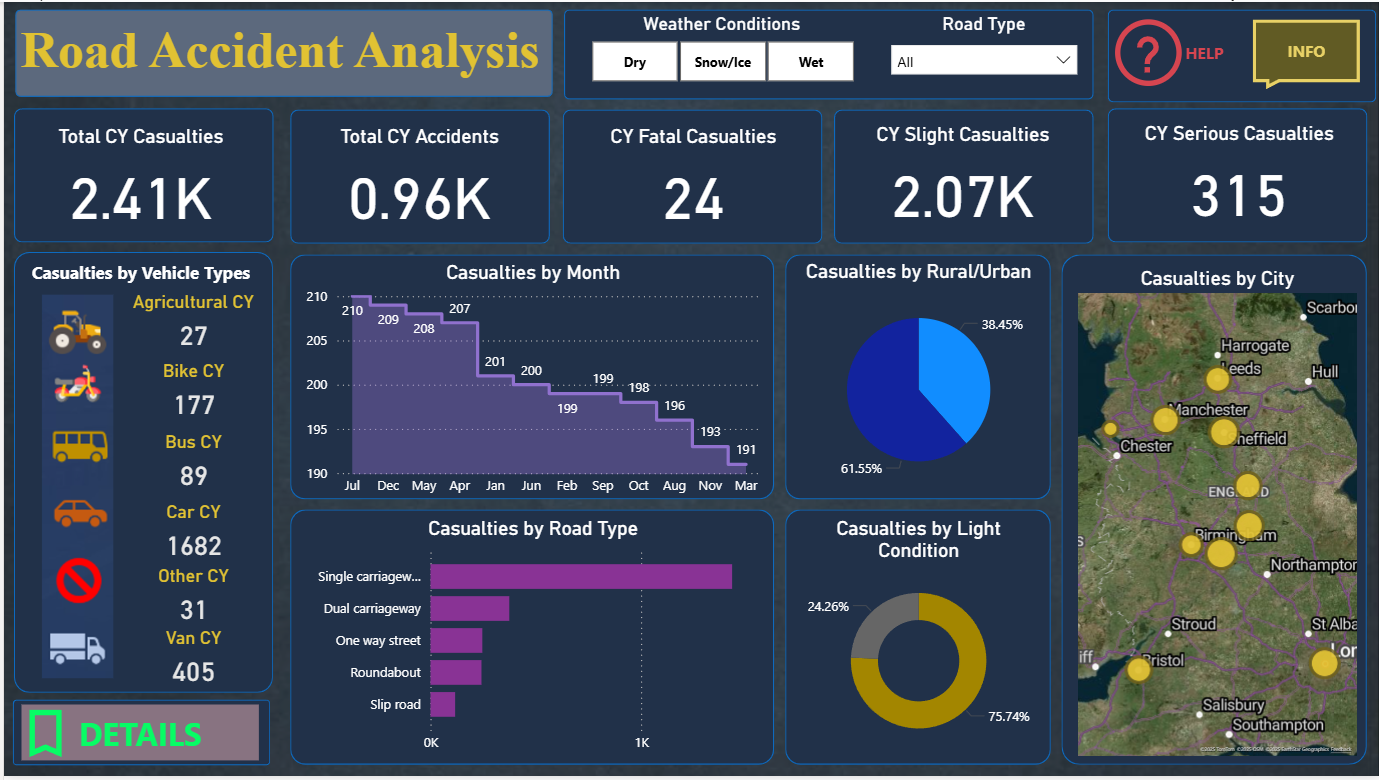

This screenshot's page, from the dashboard's own definition file:
{"tool":"powerbi","page":{"name":"Dashboard","canvas":[1280,720],"ordinal":0},"visuals":[{"type":"shape","box":[10,7.1,500,81.2],"z":0},{"type":"shape","box":[9.6,99.2,241.5,124.9],"z":1000},{"type":"shape","box":[266.2,100.5,241.5,124.9],"z":2000},{"type":"shape","box":[520.1,100.5,241.5,124.9],"z":3000},{"type":"shape","box":[772.6,100.5,241.5,124.9],"z":4000},{"type":"shape","box":[1026.4,99.2,241.5,124.9],"z":5000},{"type":"shape","box":[9,233,240.9,410],"z":6000},{"type":"shape","box":[266.2,234.6,450.1,227.8],"z":7000},{"type":"shape","box":[266.2,472,450.1,237.4],"z":8000},{"type":"shape","box":[727.3,234.6,247,227.8],"z":9000},{"type":"shape","box":[727.3,472,247,237.4],"z":10000},{"type":"shape","box":[983.9,234.6,284,474.8],"z":11000},{"type":"card","title":"Total CY Casualties","fields":{"Values":["Table.Total CY Casualities"]},"box":[41.2,113.9,174.3,98.8],"z":12000},{"type":"card","title":"CY Fatal Casualties","fields":{"Values":["Table.Fatal casuality"]},"box":[554.4,113.9,174.3,98.8],"z":13000},{"type":"card","title":"CY Slight Casualties","fields":{"Values":["Table.Slight casuality"]},"box":[804.1,112.5,175.6,98.8],"z":14000},{"type":"card","title":"CY Serious Casualties","fields":{"Values":["Table.Serious casuality"]},"box":[1056.6,111.1,185.2,98.8],"z":15000},{"type":"card","title":"Total CY Accidents","fields":{"Values":["Table.Total CY Accidents"]},"box":[300.5,113.9,174.3,98.8],"z":16000},{"type":"card","title":"Agricultural CY","fields":{"Values":["Table.Agricultural CY"]},"box":[115.3,269,122.1,59],"z":17000},{"type":"textbox","box":[17.1,234.8,220.9,39.9],"z":18000},{"type":"card","title":"Bike CY","fields":{"Values":["Table.Bike CY"]},"box":[115.5,333.1,122.6,58.4],"z":19000},{"type":"card","title":"Bus CY","fields":{"Values":["Table.Bus CY"]},"box":[115.5,398.7,122.6,58.4],"z":20000},{"type":"card","title":"Car CY","fields":{"Values":["Table.Car CY"]},"box":[115.5,464.3,122.6,58.4],"z":21000},{"type":"card","title":"Other CY","fields":{"Values":["Table.Other CY"]},"box":[115.5,522.7,122.6,58.4],"z":22000},{"type":"shape","box":[8.6,648.6,239.5,61.3],"z":23000},{"type":"textbox","box":[11,13,499,68.4],"z":24000},{"type":"shape","box":[521.4,6.9,492.6,83.7],"z":25000},{"type":"shape","box":[1026.4,6.9,249.7,86.4],"z":26000},{"type":"lineChart","title":"Casualties by Month","fields":{"Category":["Accident_data.Month"],"Y":["Sum(Accident_data.Casualties Count)"]},"box":[276.5,240.9,431.9,222.4],"z":27000},{"type":"barChart","title":"Casualties by Road Type","fields":{"Y":["Sum(Accident_data.Casualties Count)"],"Category":["Accident_data.Road Type"]},"box":[276.5,478.9,431.9,222.4],"z":28000},{"type":"pieChart","title":"Casualties by Rural/Urban","fields":{"Y":["Sum(Accident_data.Casualties Count)"],"Series":["Accident_data.Area"]},"box":[734.1,239.5,235.2,218.1],"z":29000},{"type":"donutChart","title":"Casualties by Light Condition","fields":{"Y":["Sum(Accident_data.Casualties Count)"],"Category":["Accident_data.Light Condition"]},"box":[734.1,478.9,235.2,222.4],"z":30000},{"type":"azureMap","title":"Casualties by City","fields":{"Category":["Accident_data.City"],"Size":["Sum(Accident_data.Casualties Count)"]},"box":[994.9,246.6,268,454.7],"z":31000},{"type":"card","title":"Van CY","fields":{"Values":["Table.Van CY"]},"box":[115.5,581.1,122.6,58.4],"z":32000},{"type":"slicer","title":"Road Type","fields":{"Values":["Accident_data.Road Type"]},"box":[815,11,193,64.5],"z":33000},{"type":"slicer","title":"Weather Conditions","fields":{"Values":["Accident_data.Weather Condition"]},"box":[521.4,11,293.7,70],"z":34000},{"type":"actionButton","box":[16.3,653.5,220.9,52.3],"z":35000},{"type":"actionButton","box":[1026.6,9.6,111.7,75.6],"z":36000},{"type":"actionButton","box":[1161.1,16.8,99.7,64.8],"z":37000},{"type":"image","box":[10.8,267.8,116.5,366.2],"z":38000}]}

Visuals, with their boxes in screenshot pixels (x1, y1, x2, y2), scaled from the page's 1280x720 canvas onto the 1379x780 screenshot:
shape: l=11, t=8, r=549, b=96
shape: l=10, t=107, r=271, b=243
shape: l=287, t=109, r=547, b=244
shape: l=560, t=109, r=821, b=244
shape: l=832, t=109, r=1093, b=244
shape: l=1106, t=107, r=1366, b=243
shape: l=10, t=252, r=269, b=697
shape: l=287, t=254, r=772, b=501
shape: l=287, t=511, r=772, b=769
shape: l=784, t=254, r=1050, b=501
shape: l=784, t=511, r=1050, b=769
shape: l=1060, t=254, r=1366, b=769
"Total CY Casualties" card: l=44, t=123, r=232, b=230
"CY Fatal Casualties" card: l=597, t=123, r=785, b=230
"CY Slight Casualties" card: l=866, t=122, r=1055, b=229
"CY Serious Casualties" card: l=1138, t=120, r=1338, b=227
"Total CY Accidents" card: l=324, t=123, r=512, b=230
"Agricultural CY" card: l=124, t=291, r=256, b=355
textbox: l=18, t=254, r=256, b=298
"Bike CY" card: l=124, t=361, r=257, b=424
"Bus CY" card: l=124, t=432, r=257, b=495
"Car CY" card: l=124, t=503, r=257, b=566
"Other CY" card: l=124, t=566, r=257, b=630
shape: l=9, t=703, r=267, b=769
textbox: l=12, t=14, r=549, b=88
shape: l=562, t=7, r=1092, b=98
shape: l=1106, t=7, r=1375, b=101
"Casualties by Month" lineChart: l=298, t=261, r=763, b=502
"Casualties by Road Type" barChart: l=298, t=519, r=763, b=760
"Casualties by Rural/Urban" pieChart: l=791, t=259, r=1044, b=496
"Casualties by Light Condition" donutChart: l=791, t=519, r=1044, b=760
"Casualties by City" azureMap: l=1072, t=267, r=1361, b=760
"Van CY" card: l=124, t=630, r=257, b=693
"Road Type" slicer: l=878, t=12, r=1086, b=82
"Weather Conditions" slicer: l=562, t=12, r=878, b=88
actionButton: l=18, t=708, r=256, b=765
actionButton: l=1106, t=10, r=1226, b=92
actionButton: l=1251, t=18, r=1358, b=88
image: l=12, t=290, r=137, b=687
